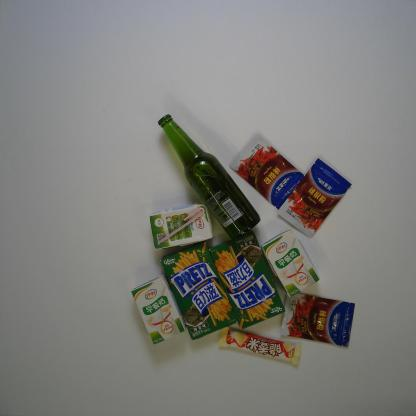Alcohol: (157, 113, 261, 240)
Chocolate: (218, 326, 303, 366)
Dessert: (208, 229, 286, 332), (159, 240, 238, 341)
Milk: (261, 228, 320, 300), (130, 273, 187, 346), (148, 200, 214, 251)
Seasoner: (276, 157, 354, 240), (228, 131, 305, 211), (279, 292, 356, 349)
